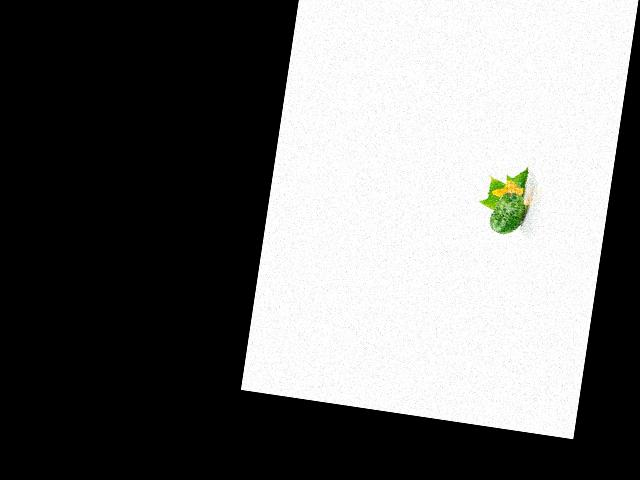cucumber: (488, 190, 527, 237)
